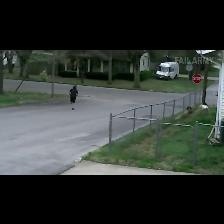person: (70, 86, 78, 109)
